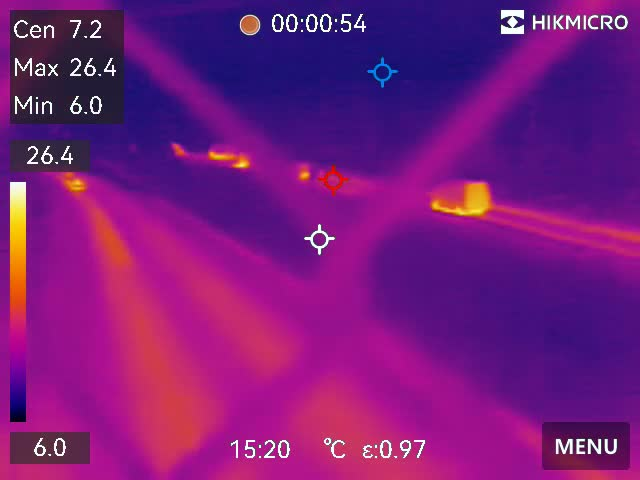heavyTruck: (431, 180, 493, 216)
